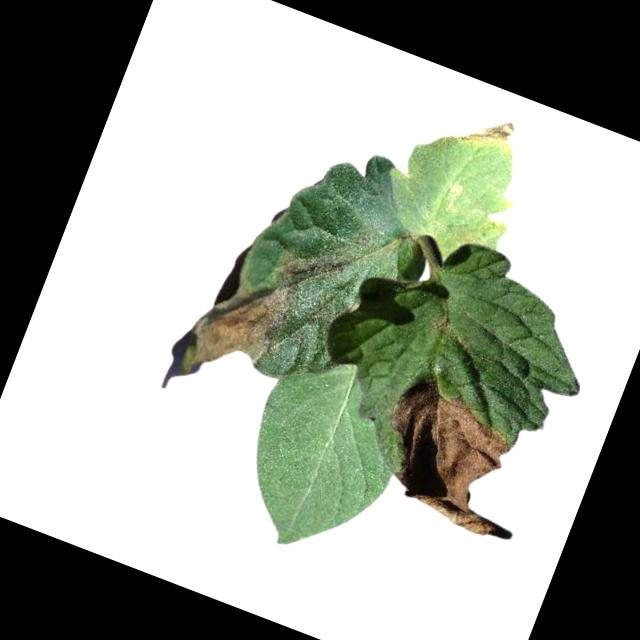Late_blight: (360, 365, 535, 538), (161, 231, 309, 412), (459, 107, 521, 159)
healthy: (219, 338, 424, 572)
